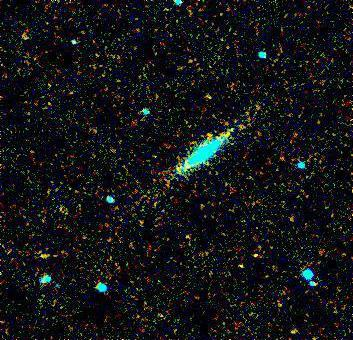star: (217, 116, 247, 146)
